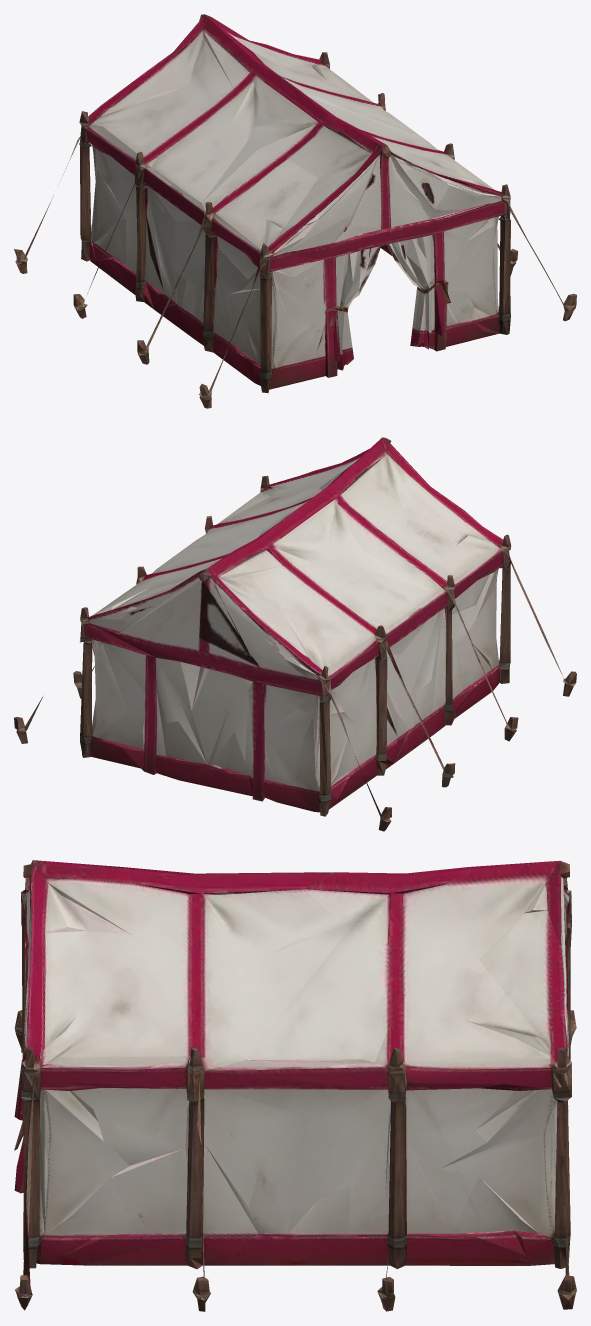
Rendered from tent.glb.
The picture shows the model from 3 angles, top to bottom: view 1: azimuth 30°, elevation 25°; view 2: azimuth 150°, elevation 25°; view 3: azimuth 270°, elevation 25°; orthographic projection. The views are drawn at different scales.
Bounding box in the file's own units: 1.89 × 1.03 × 1.65.
Materials: 1 (1 with a texture image).
